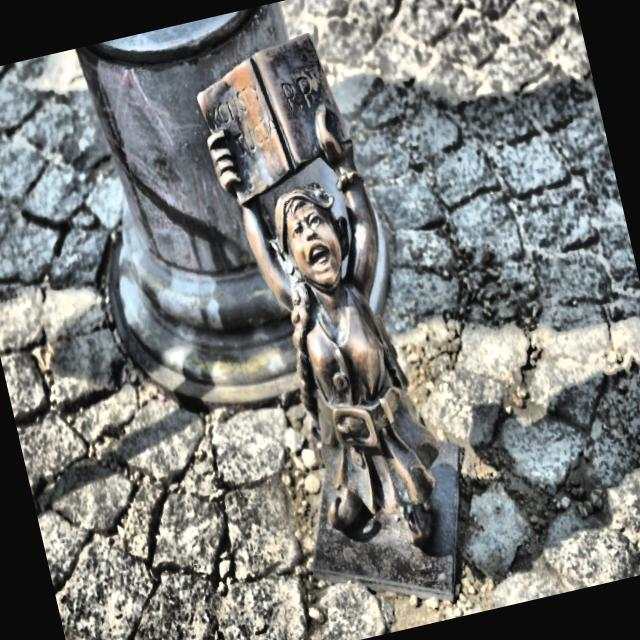Demokracja: (196, 31, 440, 547)
